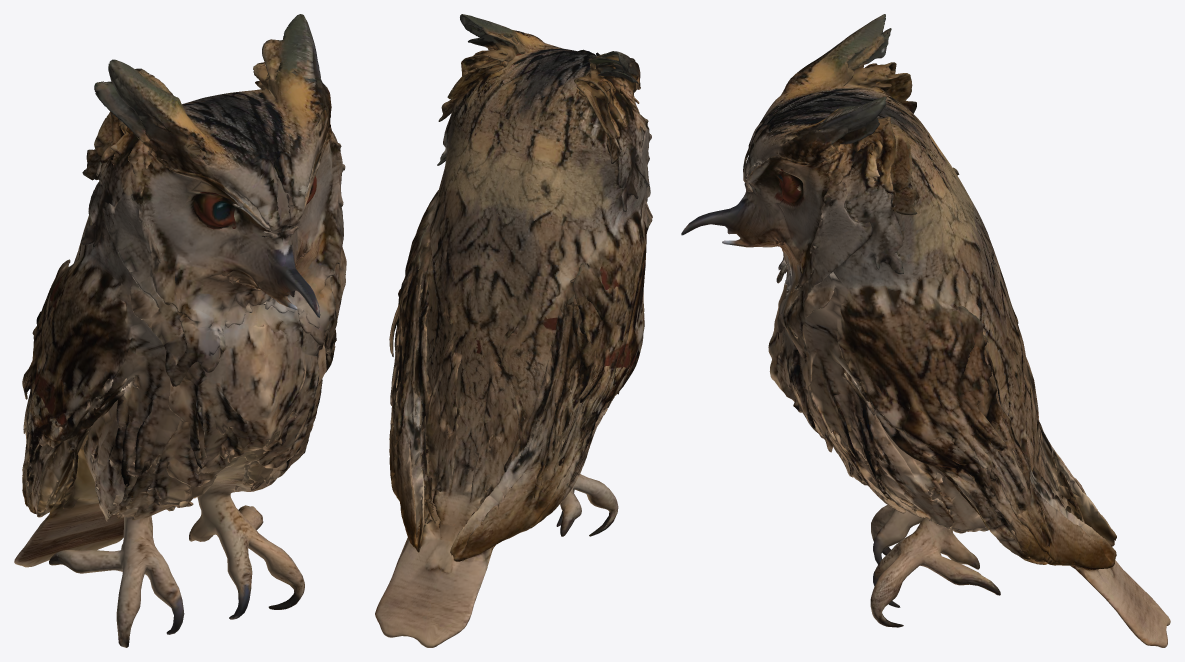
3 views of the same model, side by side, from view 1: azimuth 30°, elevation 25°; view 2: azimuth 150°, elevation 25°; view 3: azimuth 270°, elevation 25° (orthographic). The views are drawn at different scales.
Parts seen in each view (by area): view 1: tripo_node_30df2d24-a5b6-4255-ba30-ab50f3ab0d6a; view 2: tripo_node_30df2d24-a5b6-4255-ba30-ab50f3ab0d6a; view 3: tripo_node_30df2d24-a5b6-4255-ba30-ab50f3ab0d6a.
Boxes of the visible parts, x1,y1,x2,y2 form: tripo_node_30df2d24-a5b6-4255-ba30-ab50f3ab0d6a: (14,14,346,647); tripo_node_30df2d24-a5b6-4255-ba30-ab50f3ab0d6a: (375,14,652,647); tripo_node_30df2d24-a5b6-4255-ba30-ab50f3ab0d6a: (681,14,1170,647).
Bounding box in the file's own units: 0.4366 × 0.9998 × 0.768.
1 material, 1 textured.
